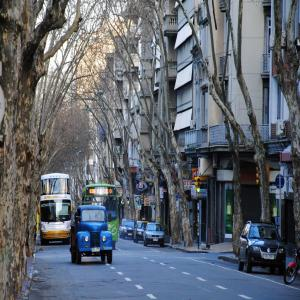Vehicle-registration-plate: (264, 254, 275, 260), (93, 247, 101, 253), (55, 233, 58, 238), (128, 233, 133, 236), (153, 238, 158, 241)
